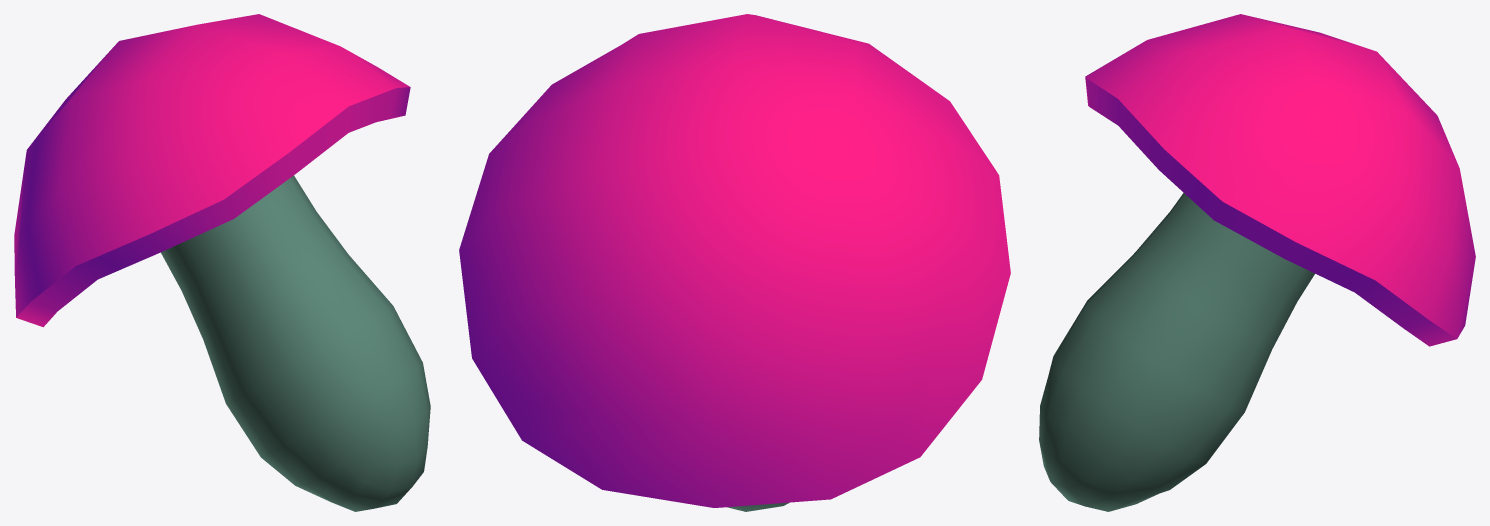
File: BMR_l.fbx
The picture shows the model from 3 angles, left to right: view 1: azimuth 30°, elevation 25°; view 2: azimuth 150°, elevation 25°; view 3: azimuth 270°, elevation 25°; orthographic projection. The views are drawn at different scales.
Parts seen in each view (by area): view 1: BezierCurve.001; view 2: BezierCurve.001; view 3: BezierCurve.001.
Part boxes in pixels (x1,y1,x2,y2): BezierCurve.001: [14, 14, 430, 511]; BezierCurve.001: [459, 14, 1010, 511]; BezierCurve.001: [1039, 14, 1475, 511].
Size of the model in its own units: 317 by 313 by 347.
